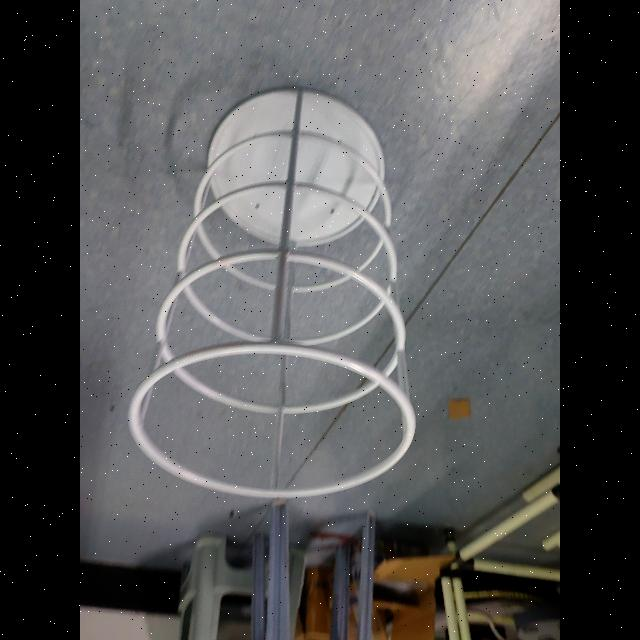S: (126, 82, 420, 502)
